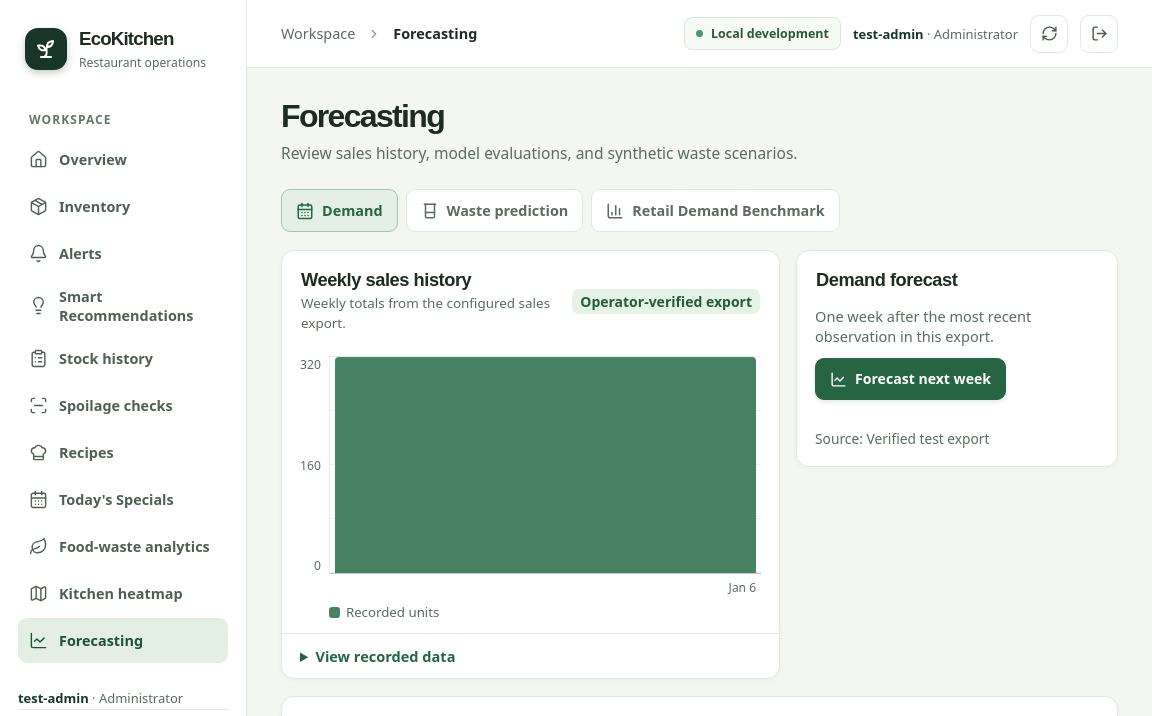
Test: Forecasting dashboard › renders test metrics and requests the next week from an available model
This screenshot has width=1152, height=716.
Expected: the text "Operator-verified export" is shown, [572, 289, 760, 314]
Click the button "Forecast next week": (910, 379) [815, 358, 1006, 400]
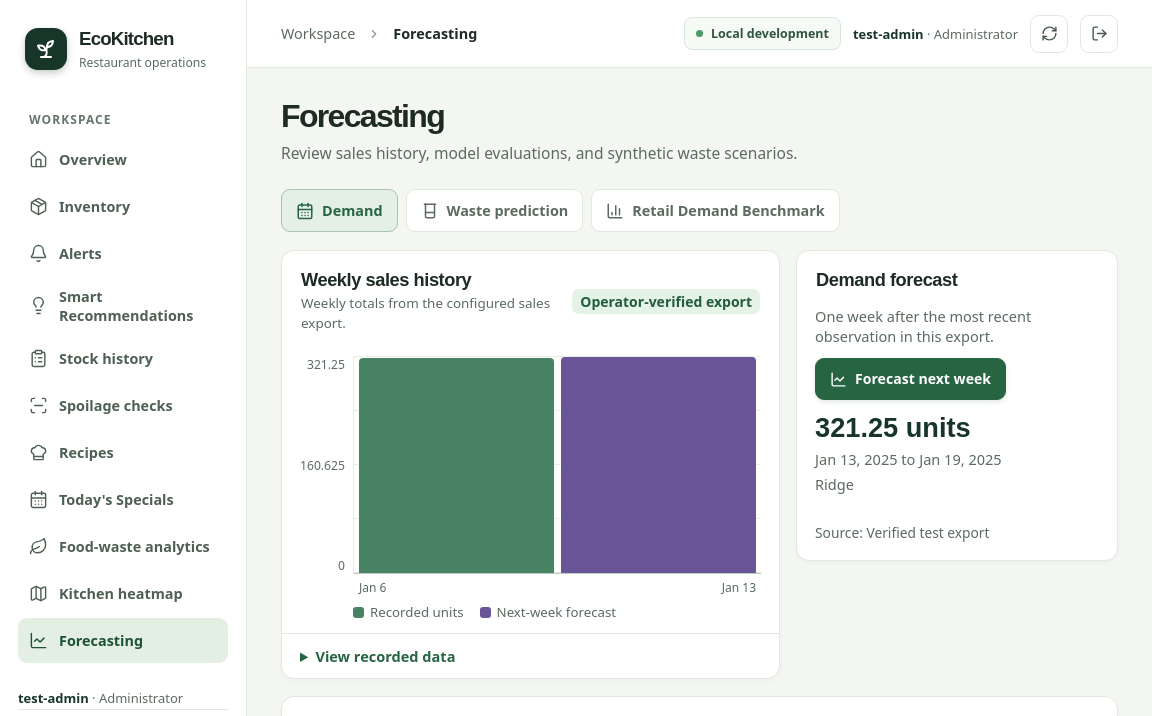
Result: the text "321.25 units" is shown at [815, 412, 971, 444]
